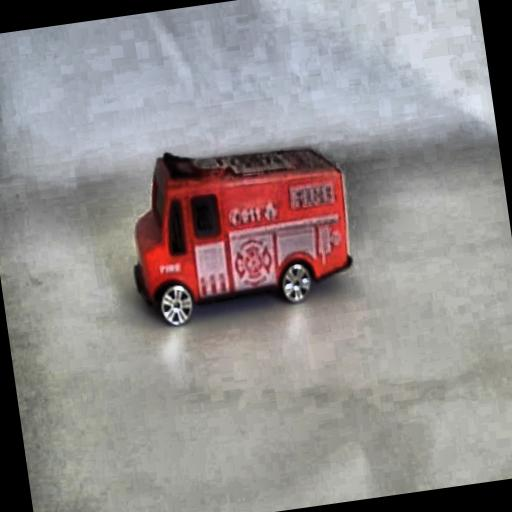fire_truck: (113, 124, 364, 333), (128, 204, 182, 306), (235, 176, 316, 226), (145, 150, 196, 226)
